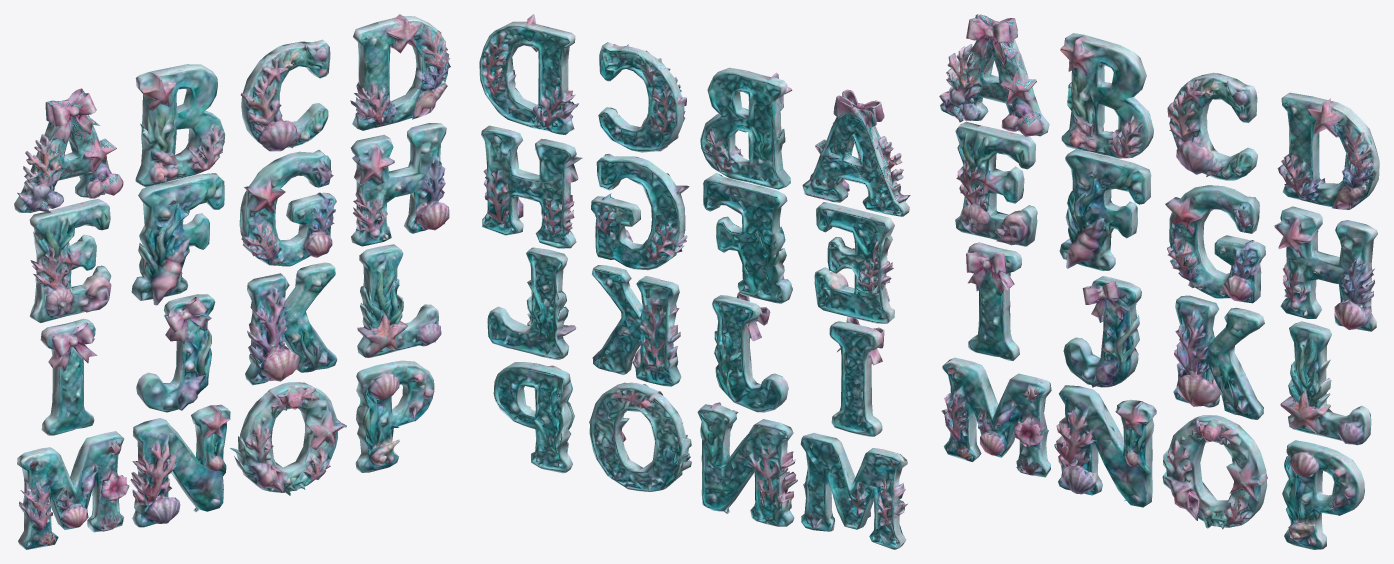
The picture shows the model from 3 angles, left to right: view 1: azimuth 30°, elevation 25°; view 2: azimuth 150°, elevation 25°; view 3: azimuth 330°, elevation 25°; orthographic projection. The views are drawn at different scales.
Visible parts, largest first — view 1: model_part2, model_part5, model_part7, model_part13, model_part14, model_part10, model_part12, model_part9, model_part3, model_part6, model_part11, model_part15 (+5 smaller); view 2: model_part2, model_part5, model_part13, model_part7, model_part10, model_part14, model_part12, model_part3, model_part9, model_part6, model_part0, model_part15 (+5 smaller); view 3: model_part5, model_part2, model_part7, model_part13, model_part10, model_part14, model_part9, model_part12, model_part3, model_part6, model_part0, model_part11 (+5 smaller).
Part boxes in pixels (x1=…): model_part2: x1=17, y1=431, x2=129, y2=549; model_part5: x1=130, y1=404, x2=230, y2=527; model_part7: x1=135, y1=64, x2=225, y2=187; model_part13: x1=351, y1=123, x2=449, y2=246; model_part14: x1=350, y1=14, x2=450, y2=130; model_part10: x1=239, y1=150, x2=336, y2=266; model_part12: x1=245, y1=262, x2=337, y2=385; model_part9: x1=230, y1=382, x2=346, y2=495; model_part3: x1=29, y1=198, x2=111, y2=322; model_part6: x1=131, y1=173, x2=224, y2=305; model_part11: x1=241, y1=39, x2=330, y2=151; model_part15: x1=355, y1=360, x2=434, y2=472; model_part2: x1=800, y1=432, x2=907, y2=549; model_part5: x1=697, y1=402, x2=797, y2=526; model_part13: x1=481, y1=125, x2=582, y2=248; model_part7: x1=700, y1=67, x2=792, y2=189; model_part10: x1=591, y1=154, x2=689, y2=270; model_part14: x1=479, y1=14, x2=578, y2=134; model_part12: x1=591, y1=265, x2=681, y2=386; model_part3: x1=814, y1=202, x2=894, y2=323; model_part9: x1=589, y1=382, x2=691, y2=491; model_part6: x1=703, y1=173, x2=792, y2=303; model_part0: x1=802, y1=95, x2=910, y2=216; model_part15: x1=493, y1=362, x2=574, y2=473; model_part5: x1=1054, y1=385, x2=1156, y2=507; model_part2: x1=941, y1=357, x2=1051, y2=477; model_part7: x1=1060, y1=33, x2=1153, y2=158; model_part13: x1=1274, y1=206, x2=1377, y2=331; model_part10: x1=1165, y1=185, x2=1265, y2=303; model_part14: x1=1277, y1=92, x2=1379, y2=209; model_part9: x1=1162, y1=415, x2=1267, y2=529; model_part12: x1=1173, y1=295, x2=1264, y2=419; model_part3: x1=955, y1=121, x2=1037, y2=246; model_part6: x1=1059, y1=149, x2=1151, y2=270; model_part0: x1=939, y1=14, x2=1049, y2=136; model_part11: x1=1167, y1=72, x2=1257, y2=180.
Size of the model in its own units: 1.9 by 1.9 by 0.1334.
Materials: 1 (1 with a texture image).
